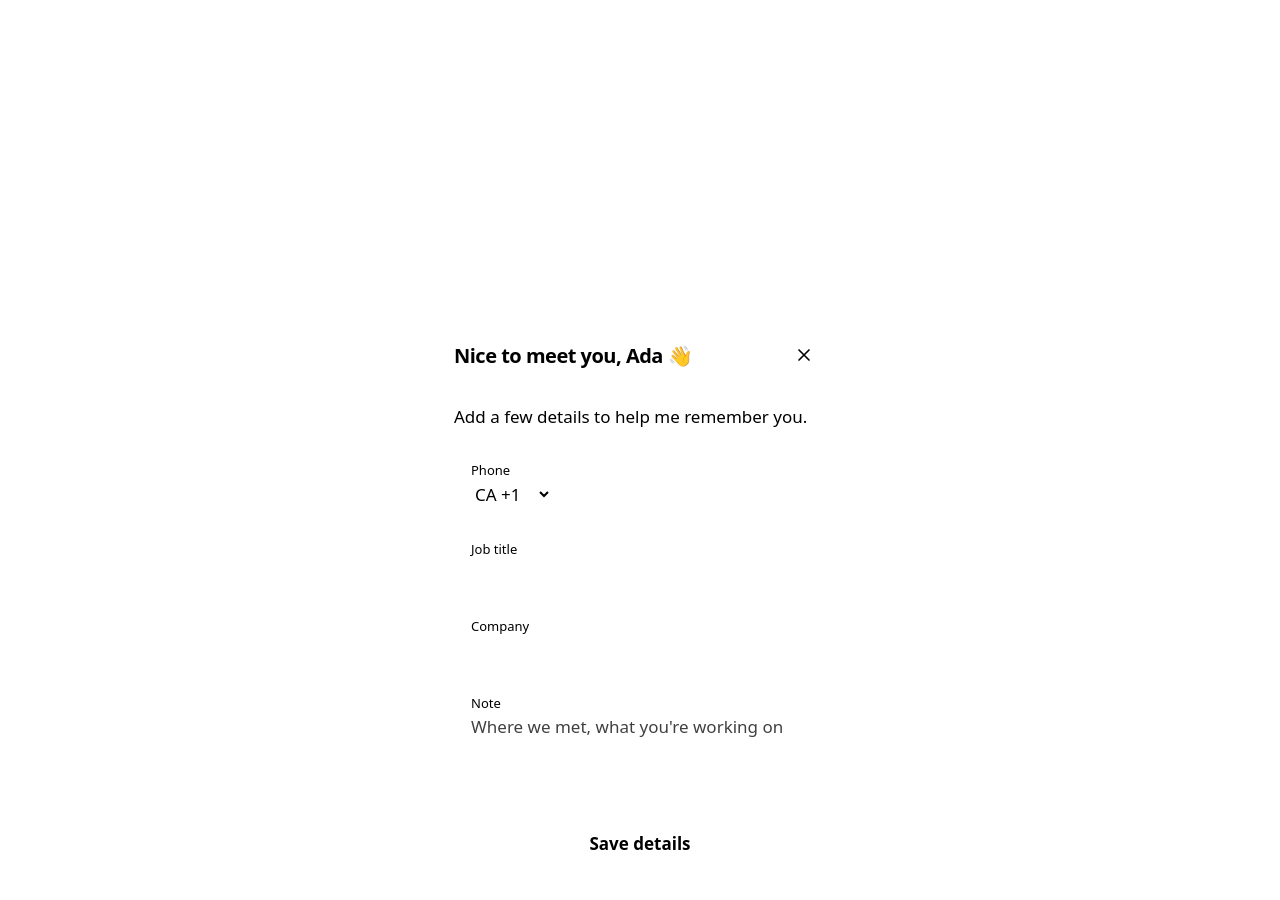
Test case: HiExchangeSheet details submit › shows the network message on a details network failure
Click the button "Save details" at (640, 844), box x1=454 y1=816 x2=826 y2=872
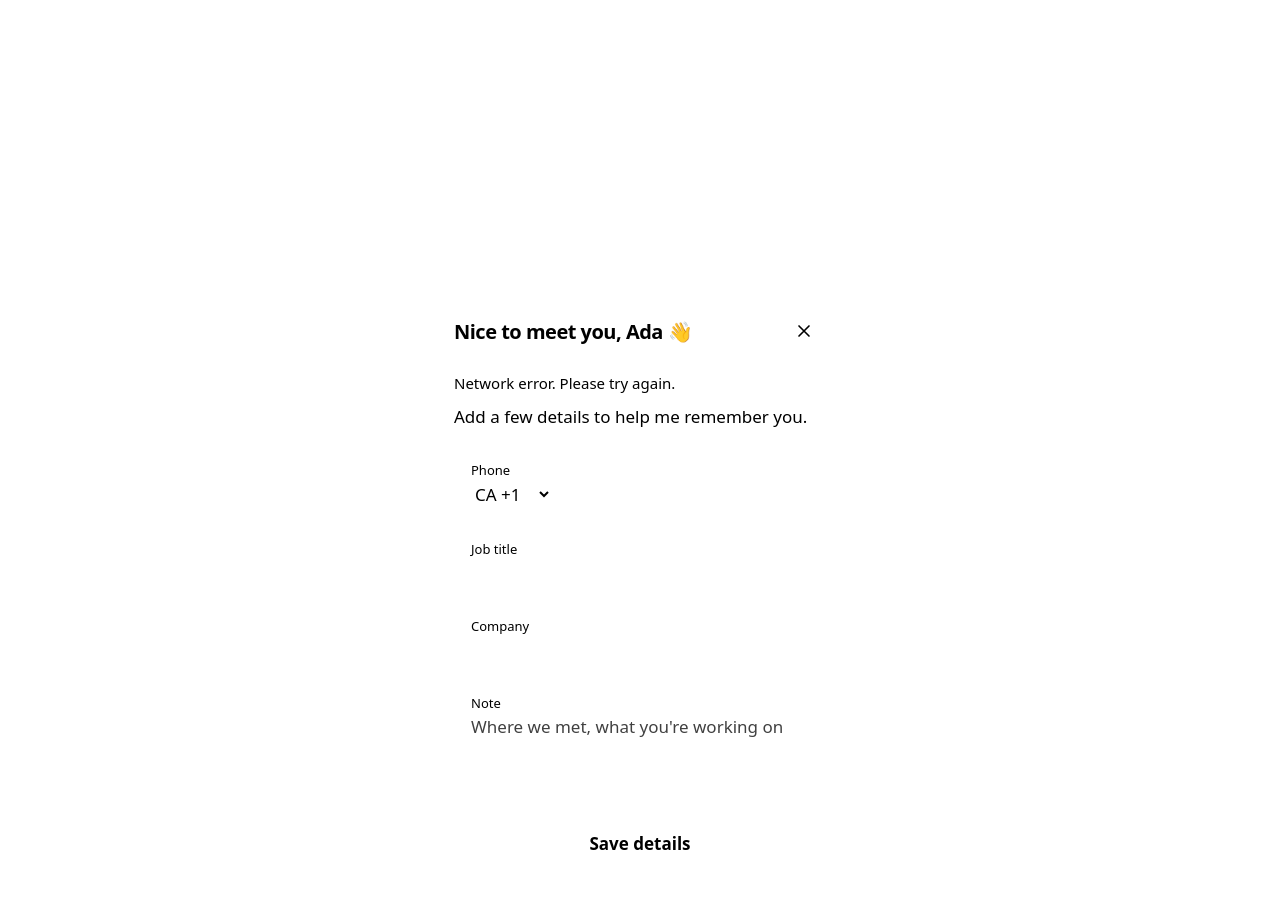
Expected: the message reads "Network error. Please try again.", x1=454 y1=373 x2=675 y2=393
